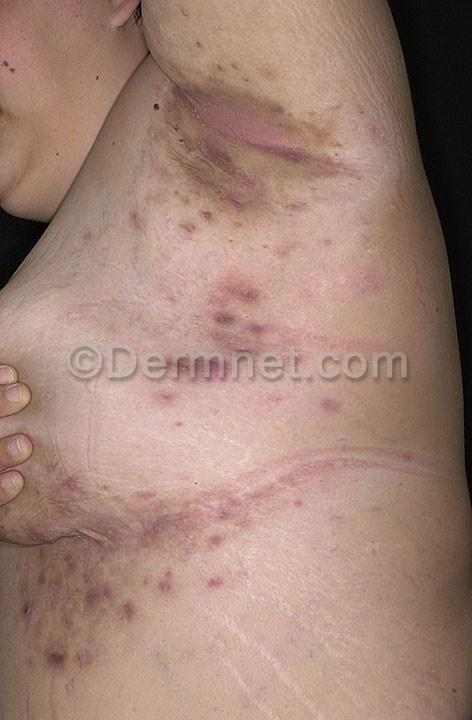Acne: (41, 511, 270, 662), (163, 273, 341, 410), (118, 146, 271, 254)
